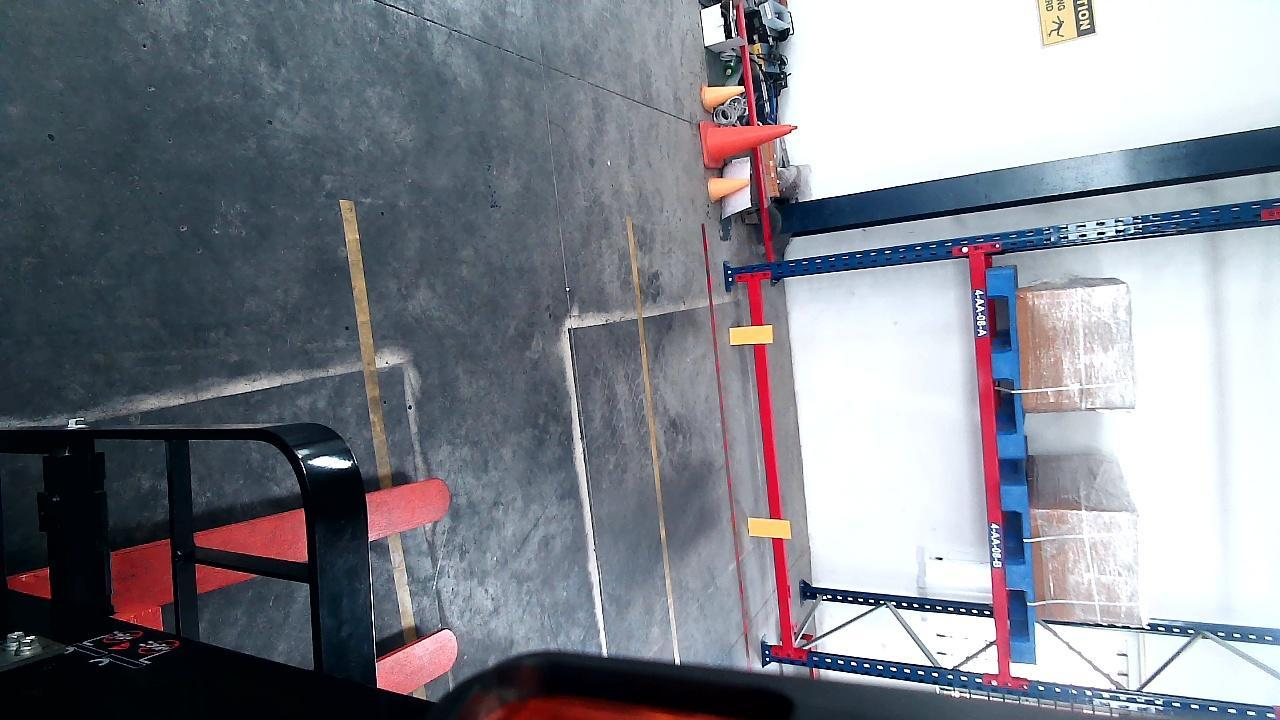red_line: (701, 224, 750, 653)
yellow_line: (343, 198, 418, 645), (632, 228, 677, 638)
